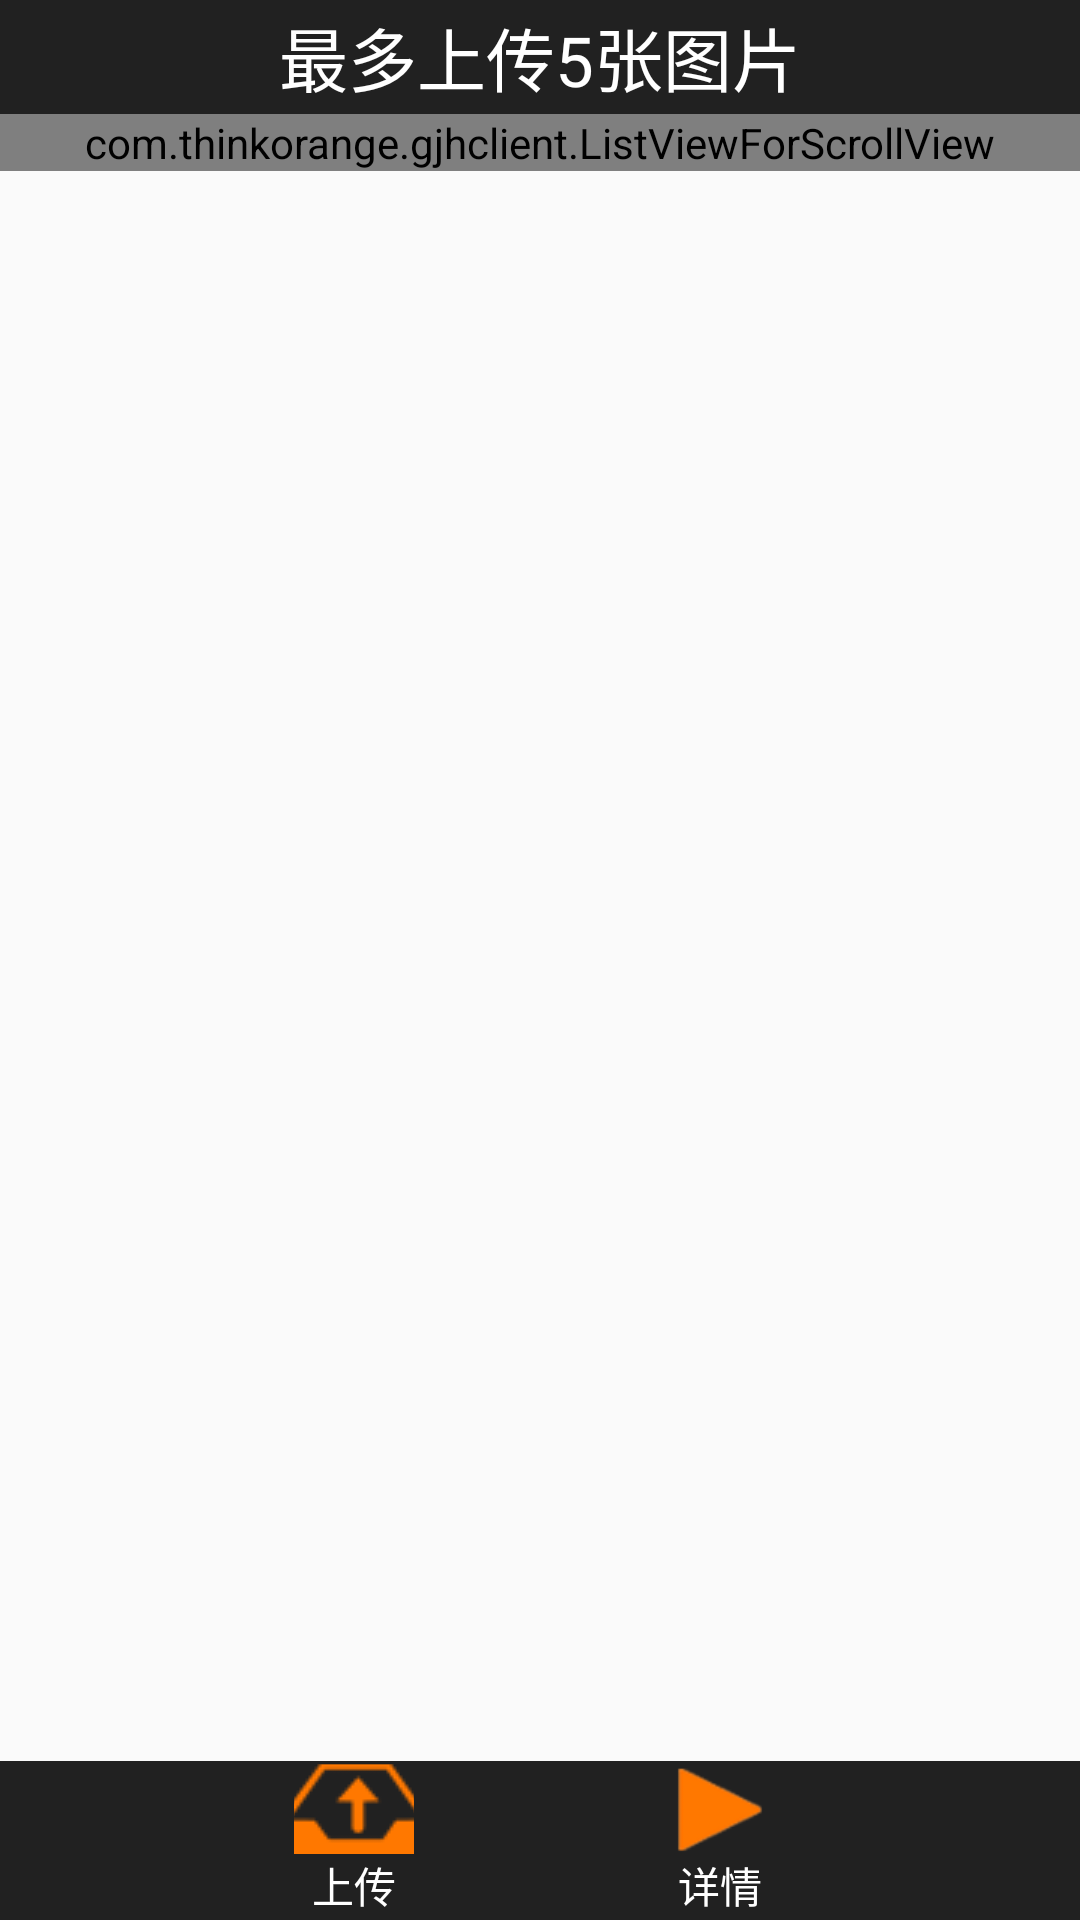

Screen size 1080×1920. Icon name, then its center in pixels as (x=x, y=y):
next: (x=720, y=1809)
